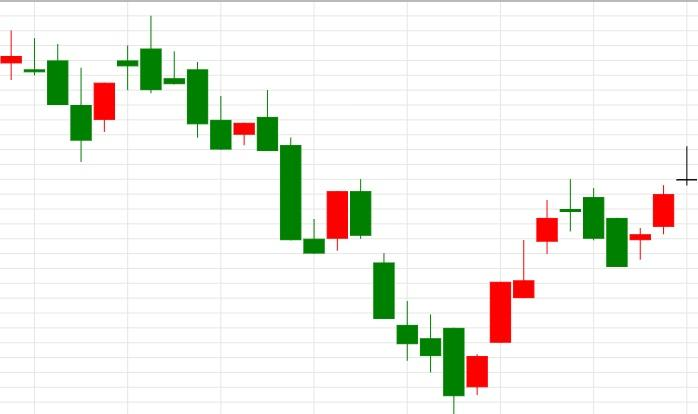evening_star_fall: (442, 179, 605, 413)
